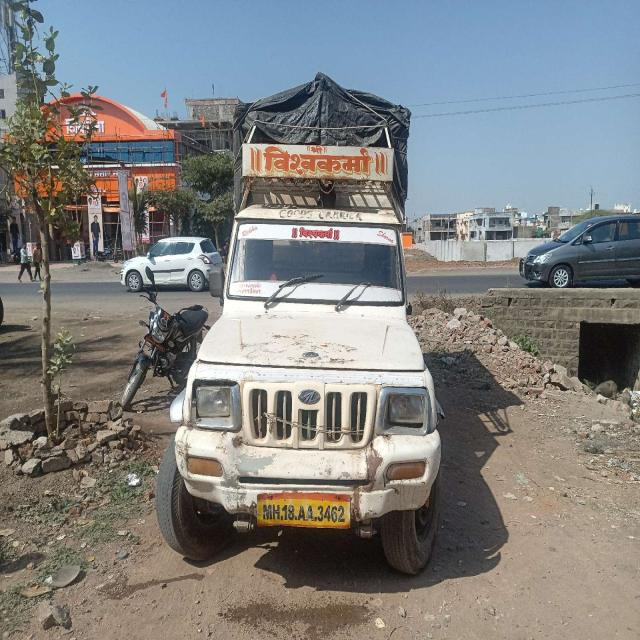light_vehicle: (161, 209, 444, 530)
